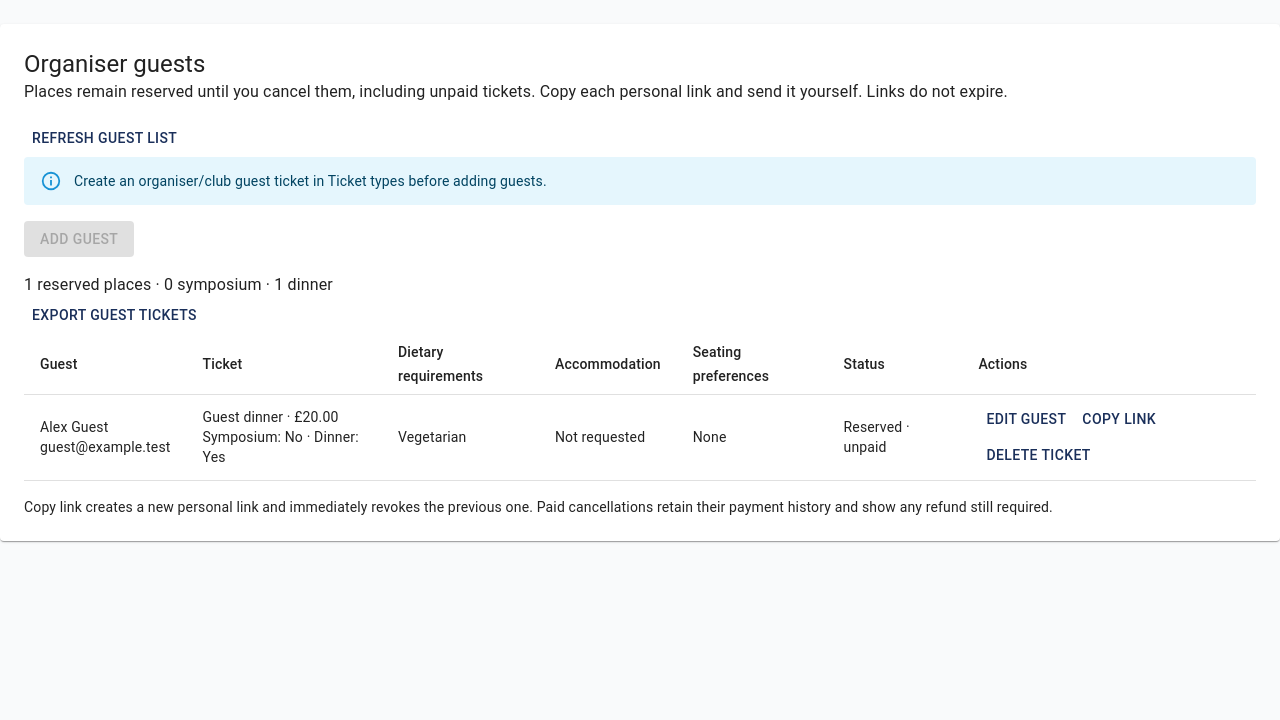
organiser management and reports › shows the generated link without replacing it again when automatic copying fails
The width and height of the screenshot is (1280, 720).
Click the button "Copy link": [1119, 419] box [1074,400,1164,437]
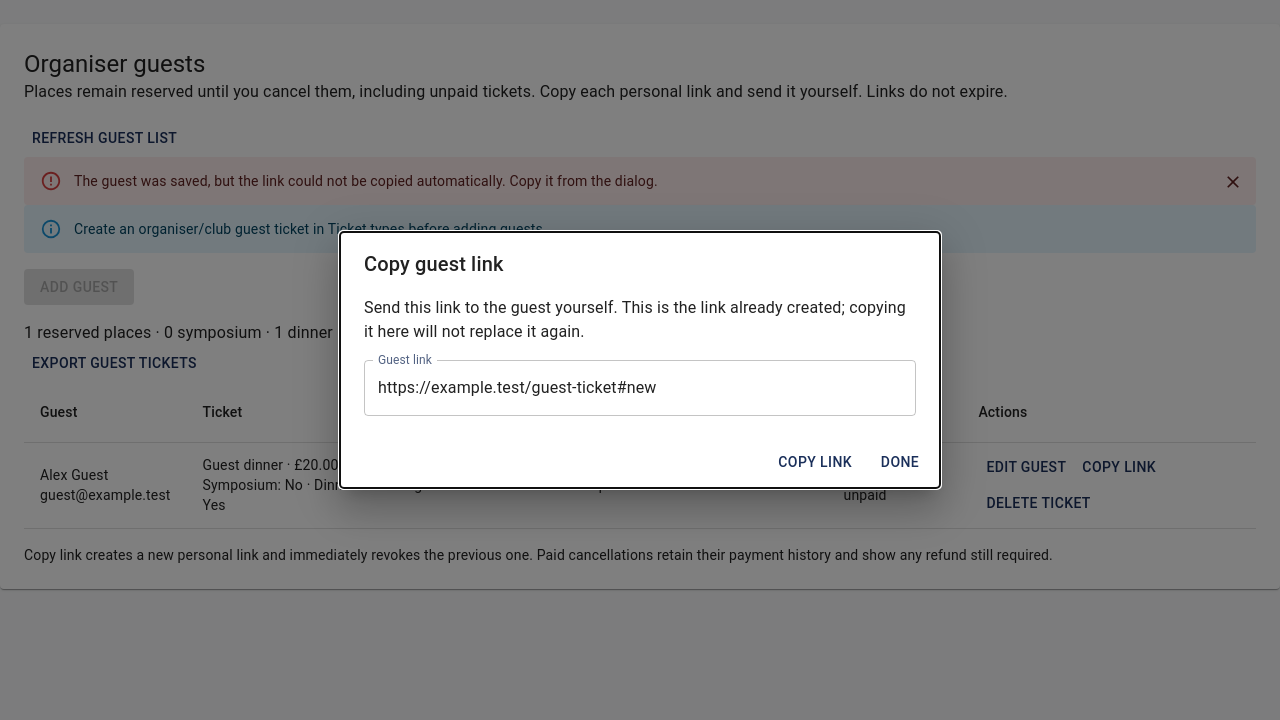
Result: the field labelled "Guest link" holds "https://example.test/guest-ticket#new" at [364,360,916,416]
Click the button "Copy link": [815, 462] box [770,444,860,480]
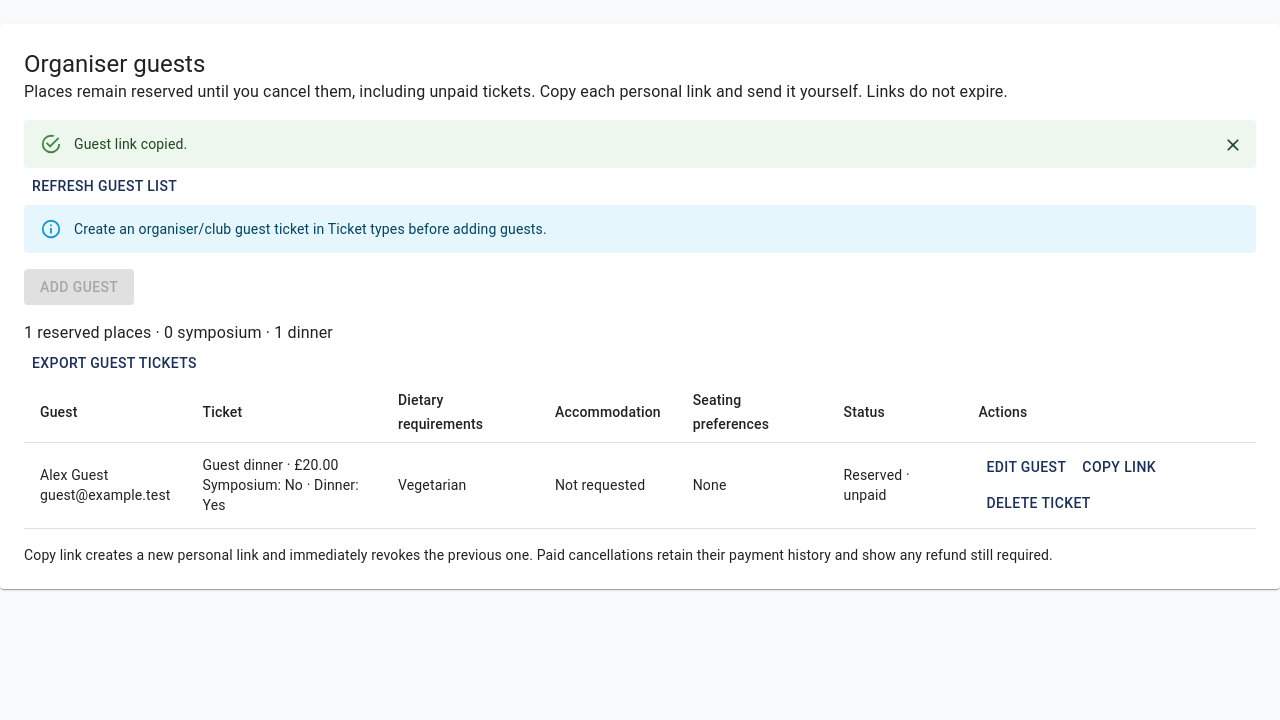
Result: the heading "Copy guest link" is gone
